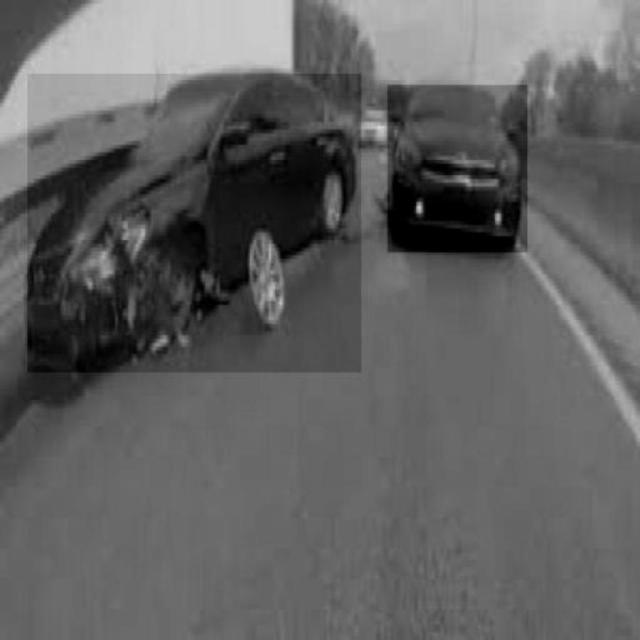accident: (27, 74, 361, 372)
vehicle: (387, 85, 527, 252)
